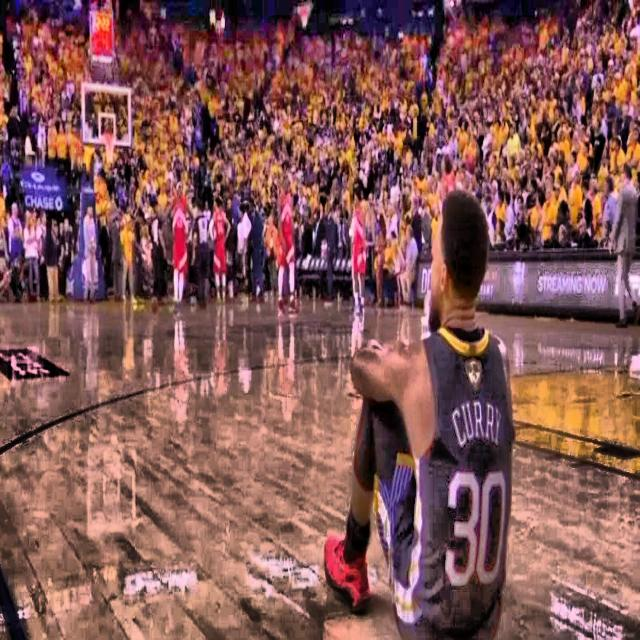board: (150, 296, 158, 312)
